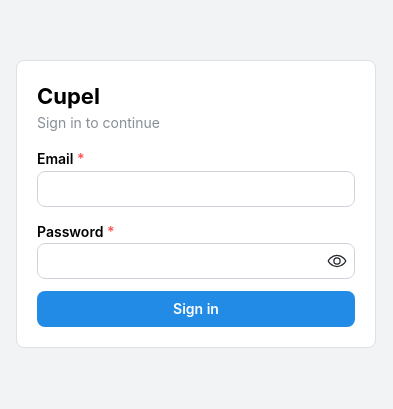
Test: LoginPage › bad credentials show the backend's error and store nothing
Step 1. Type "admin@demo" into the field labelled "Email *" → (196, 188), box [37, 170, 355, 206]
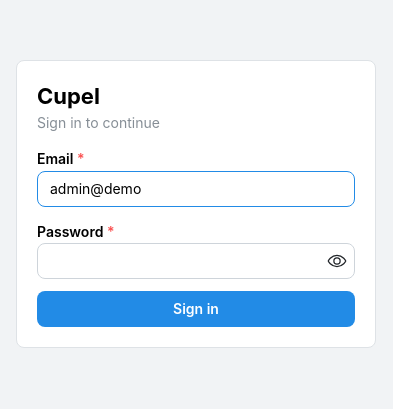
Step 2. Type "wrong" into the password field labelled "Password *" → (196, 261), box [38, 244, 354, 278]
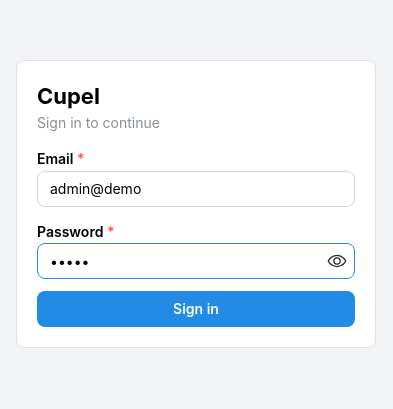
Step 3. Click the button "Sign in" → (196, 309), box [37, 291, 355, 327]
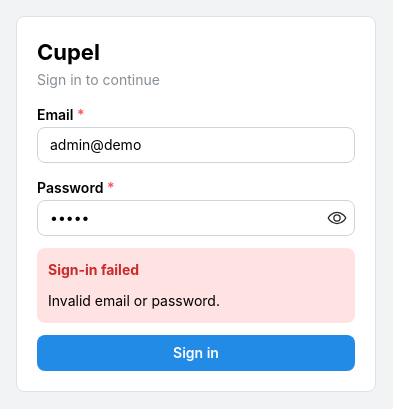
Expected: the text "Invalid email or password." is shown, [48, 292, 220, 309]
